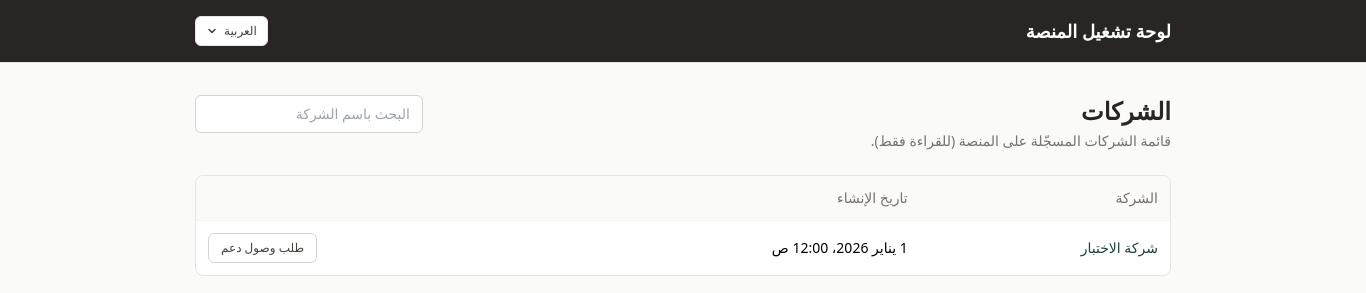
Test: <PlatformOrganizations/> — organization search › a search failure shows the standard error state
The width and height of the screenshot is (1366, 293).
Expected: the link "شركة الاختبار" is shown, [1081,238,1158,257]
In the search field with placeholder "البحث باسم الشركة": (309, 114) [195,95,423,133], type "خطأ"
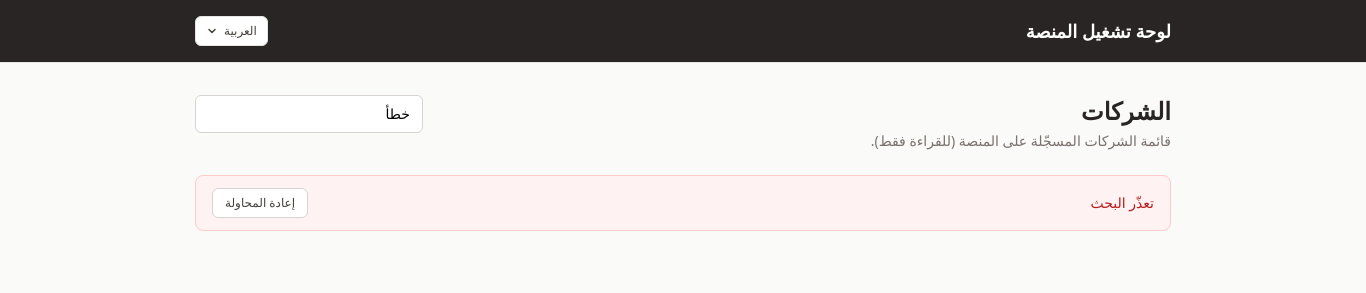
Now the text "تعذّر البحث" is shown, box [1090,193,1154,213]
